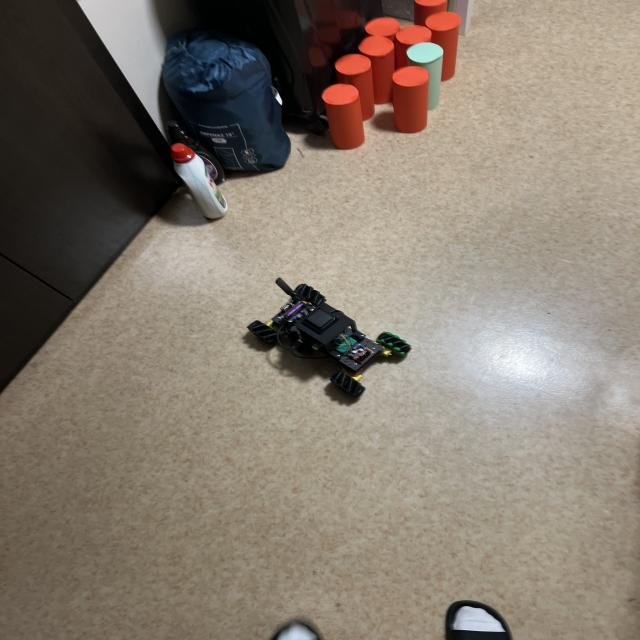robot: (248, 278, 411, 397)
